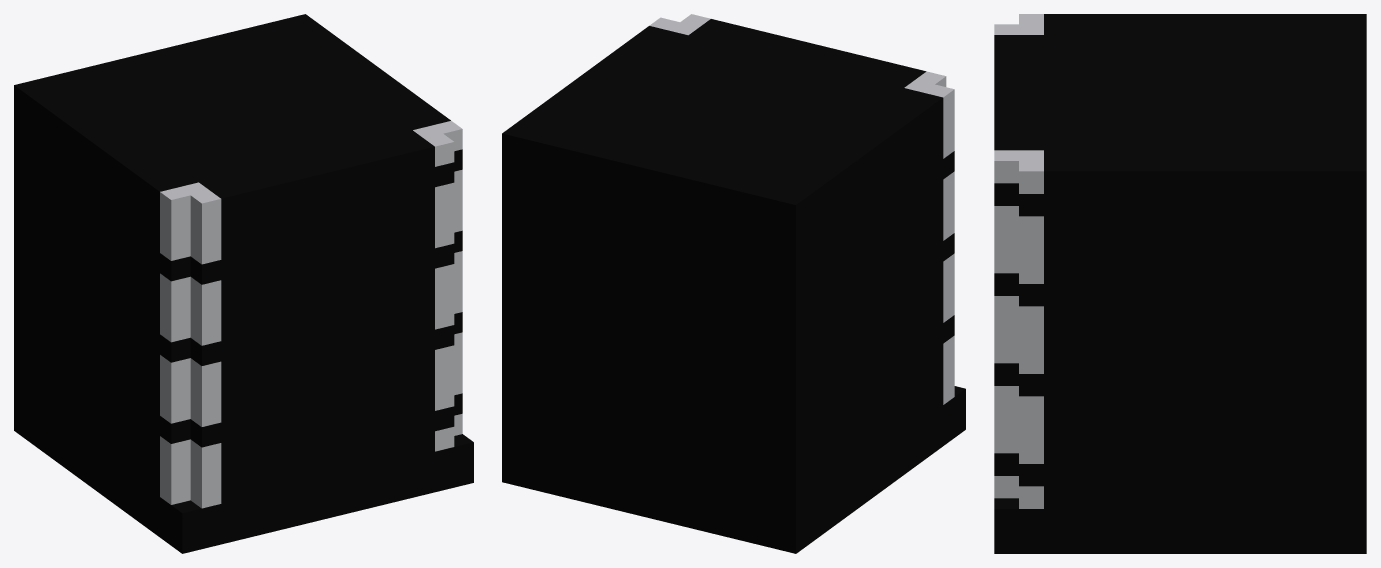
Rendered from dungeon_d_b_outer_wall_segment_b.obj.
The picture shows the model from 3 angles, left to right: view 1: azimuth 30°, elevation 25°; view 2: azimuth 150°, elevation 25°; view 3: azimuth 270°, elevation 25°; orthographic projection. The views are drawn at different scales.
Size of the model in its own units: 1.5 by 1.7 by 1.5.
1 material, 1 textured.
